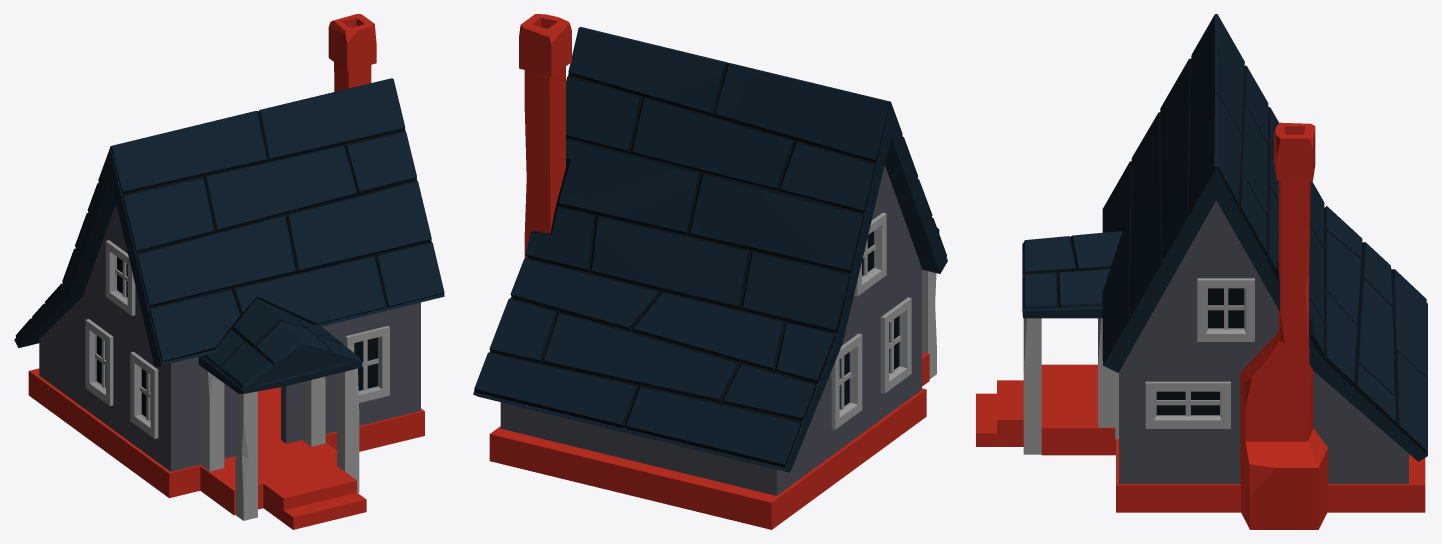
Rendered from House_4.001.fbx.
3 renders of one model, left to right at view 1: azimuth 30°, elevation 25°; view 2: azimuth 150°, elevation 25°; view 3: azimuth 270°, elevation 25°, orthographic. The views are drawn at different scales.
Parts seen in each view (by area): view 1: House_4.001; view 2: House_4.001; view 3: House_4.001.
Part boxes in pixels (x1,y1,x2,y2): House_4.001: (14, 14, 444, 529); House_4.001: (473, 14, 947, 529); House_4.001: (976, 14, 1427, 529).
Size of the model in its own units: 191 by 210 by 222.
